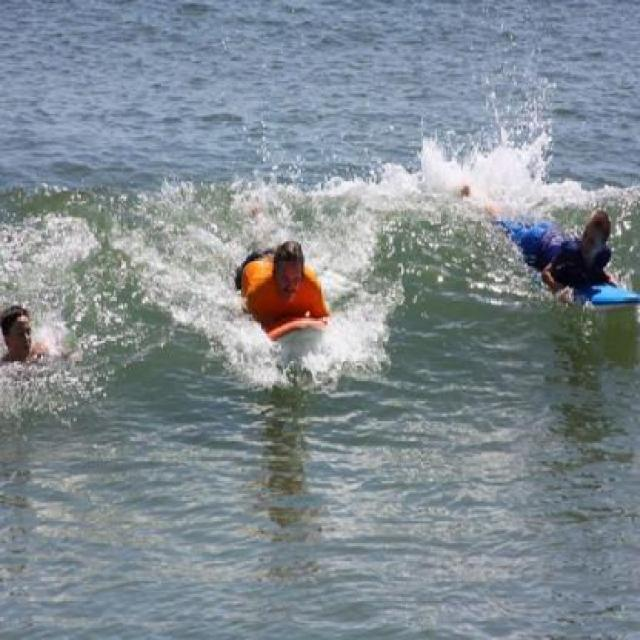Person: (461, 186, 612, 306), (232, 218, 334, 356), (0, 297, 51, 368)
